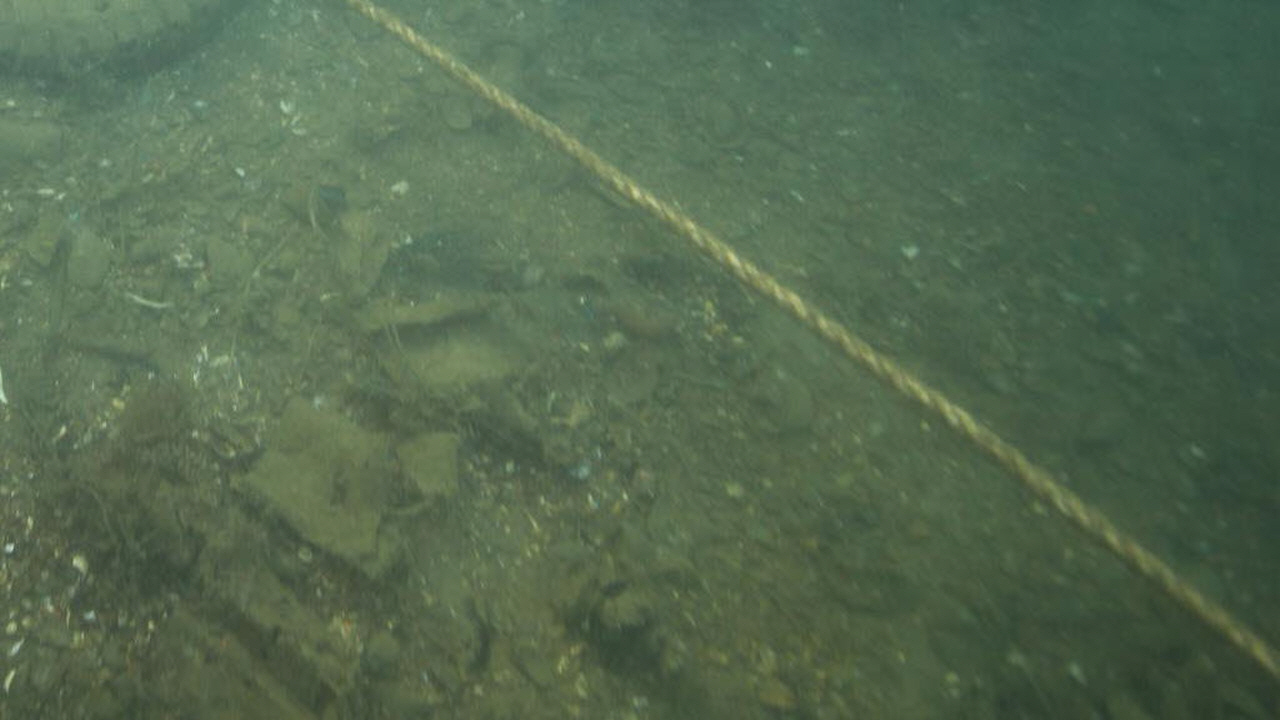rope: (343, 0, 1280, 678)
